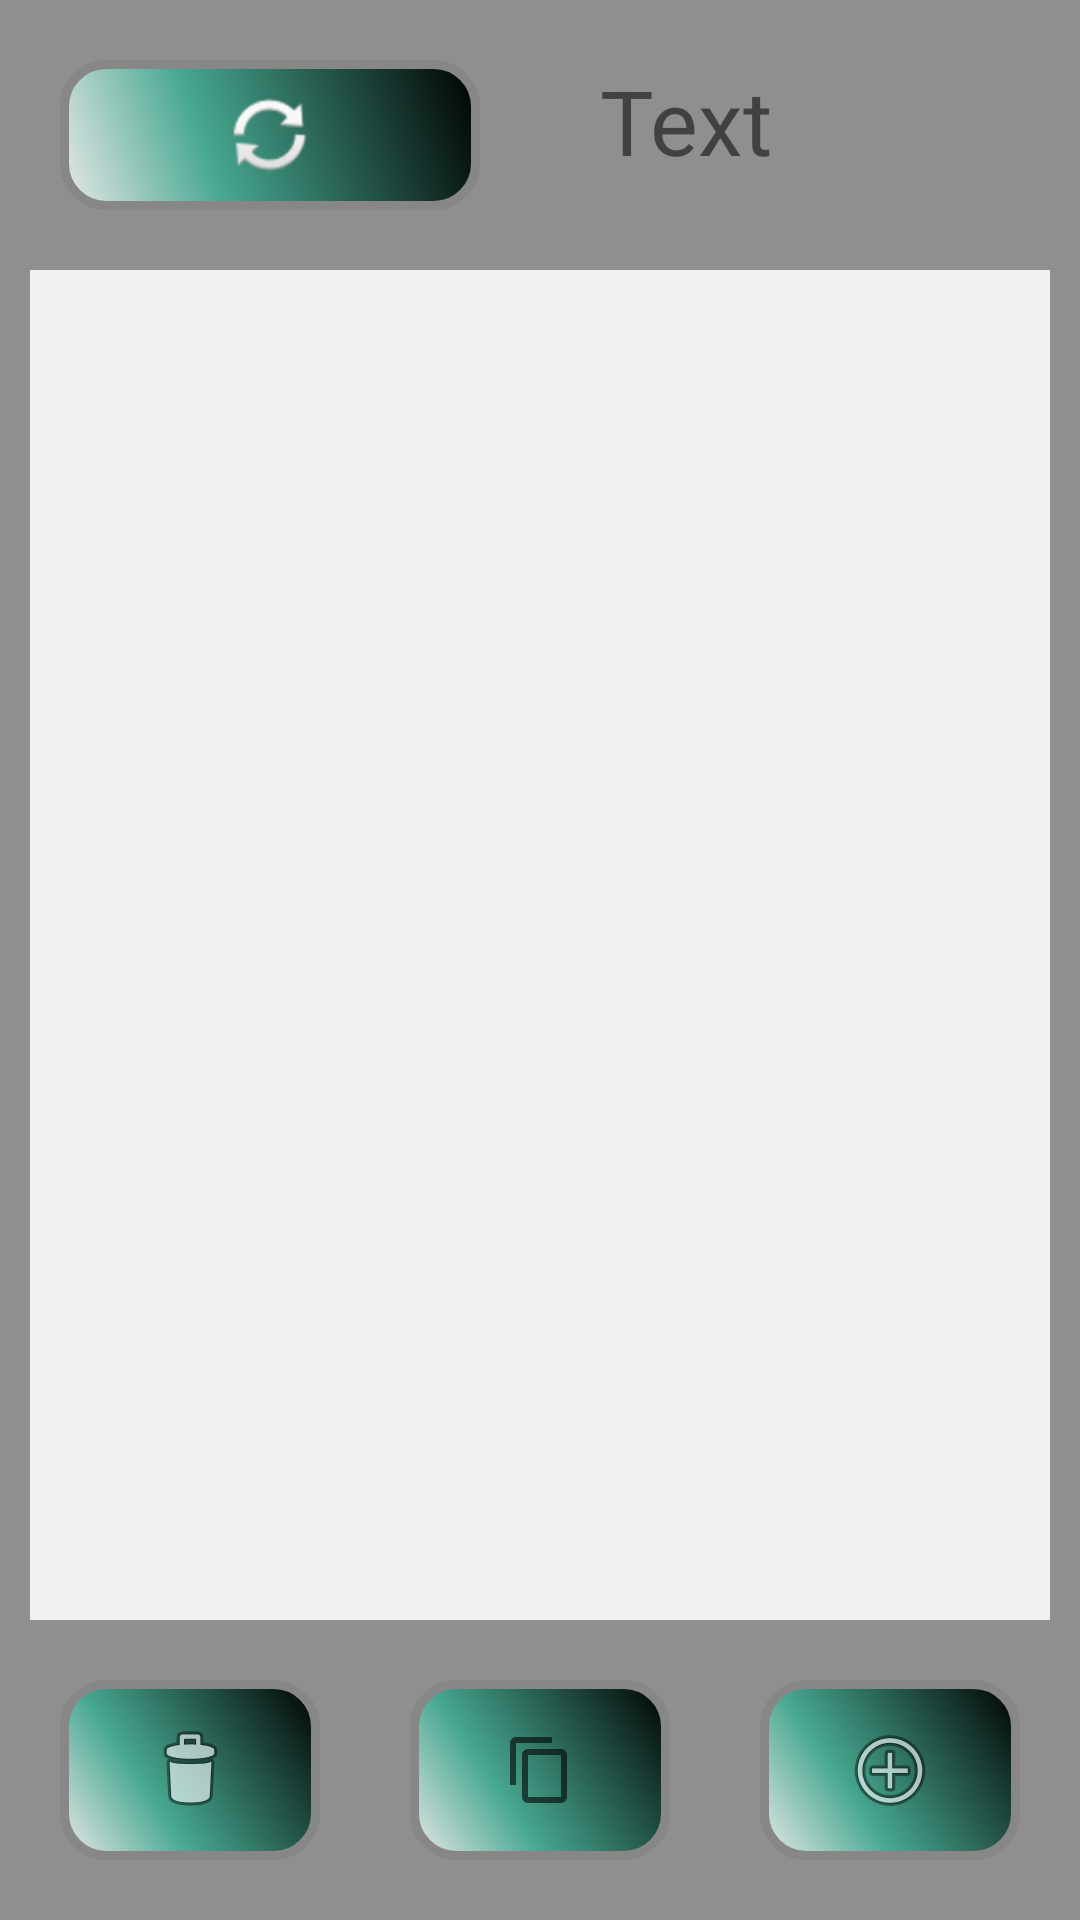

Locate icon controls on the screen. Image size 1080 × 1920, boxes as (x1, y1, x2, y2).
add: (769, 1689, 1011, 1851)
delete: (69, 1689, 311, 1851)
